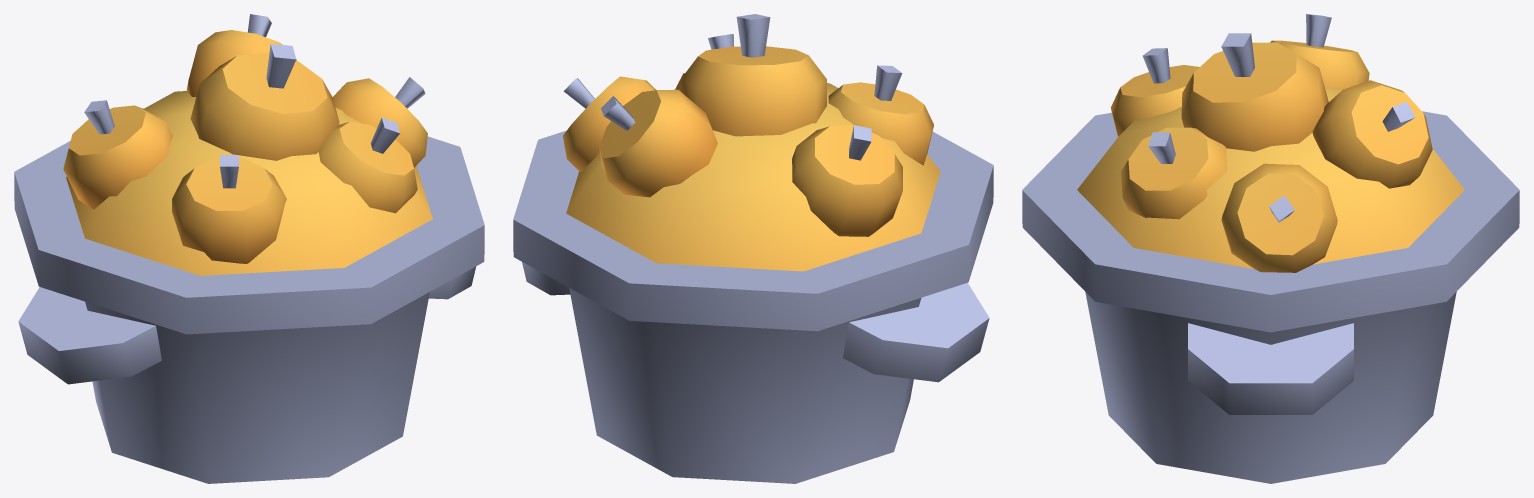
File: display-fruit.obj
The picture shows the model from 3 angles, left to right: view 1: azimuth 30°, elevation 25°; view 2: azimuth 150°, elevation 25°; view 3: azimuth 270°, elevation 25°; orthographic projection. The views are drawn at different scales.
Visible parts, largest first — view 1: display-fruit; view 2: display-fruit; view 3: display-fruit.
Boxes of the visible parts, x1,y1,x2,y2 form: display-fruit: (14, 14, 484, 483); display-fruit: (513, 14, 993, 483); display-fruit: (1022, 14, 1519, 483).
Bounding box in the file's own units: 0.6 × 0.516 × 0.6.
